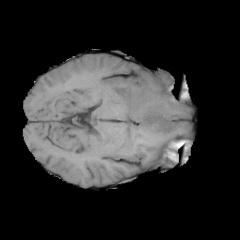glioma: (110, 75, 190, 137)
